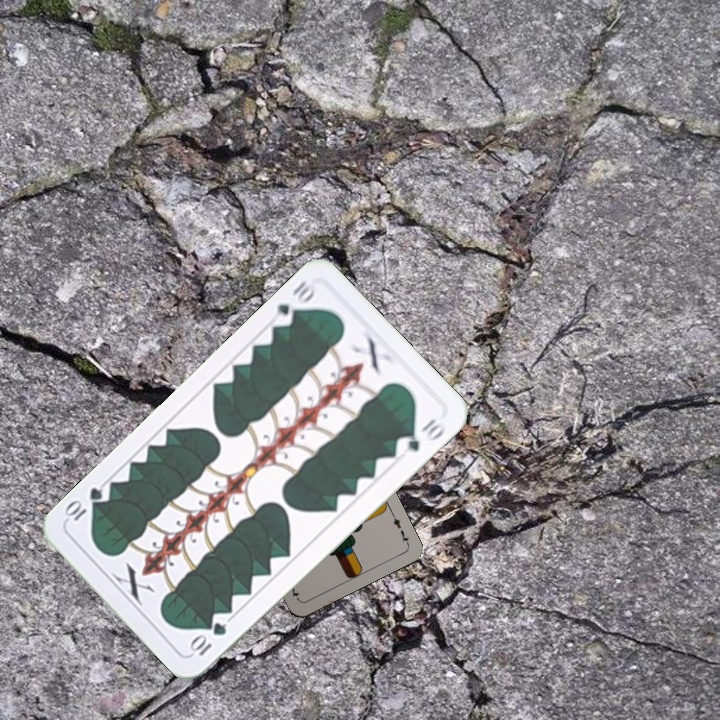E7: (387, 509, 412, 547)
G10: (268, 276, 320, 330), (186, 618, 230, 659)
